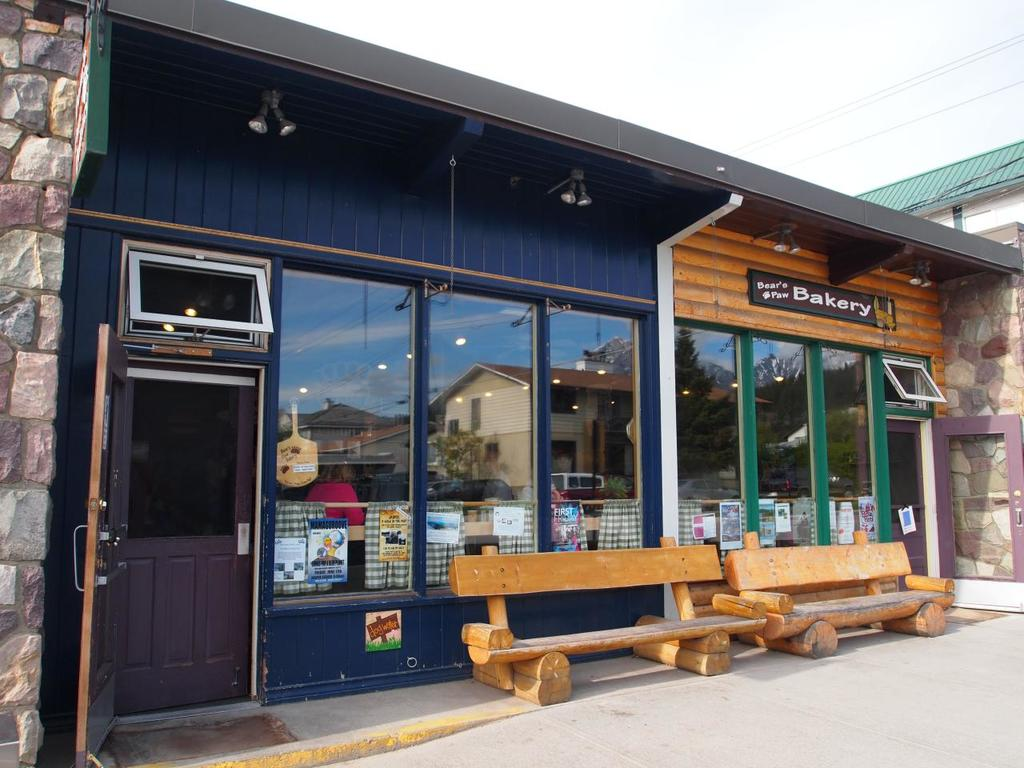Door: (275, 270, 674, 702), (70, 330, 274, 767), (665, 338, 771, 614), (891, 410, 1023, 616), (750, 332, 842, 624), (818, 338, 906, 606)
